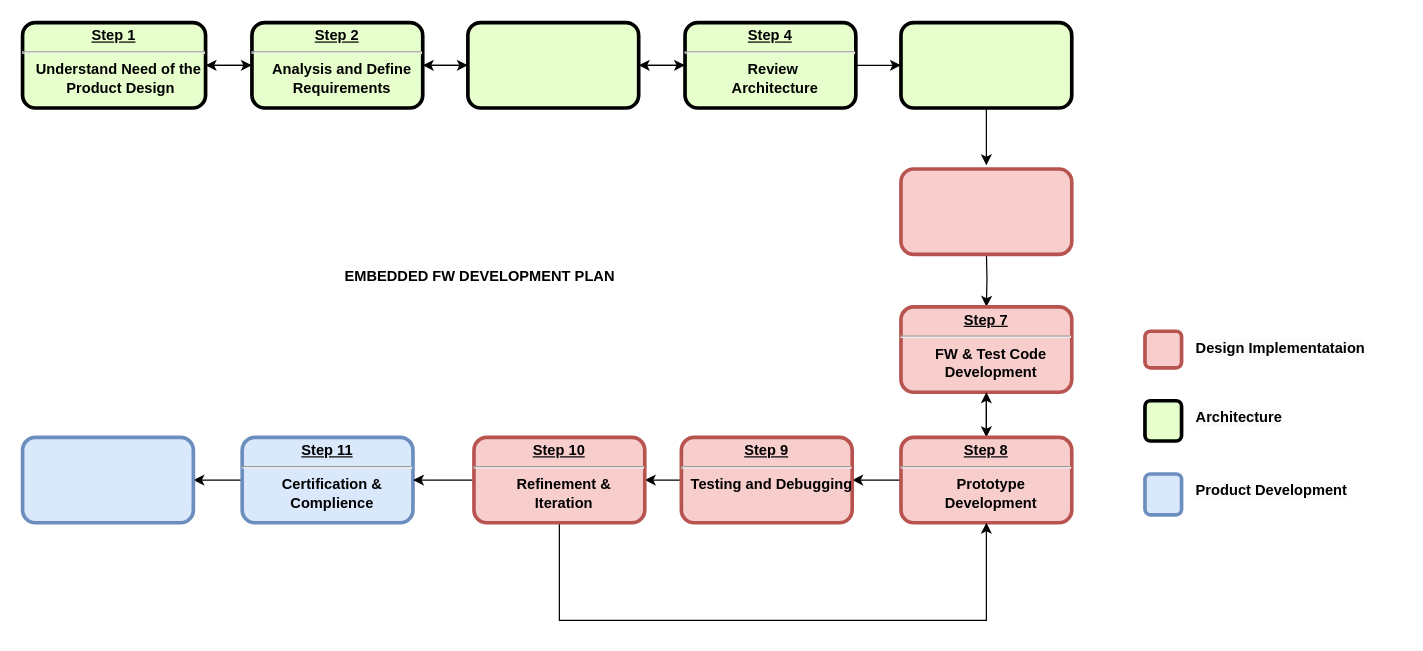
Image size: 1423x651. Some labels were removed from this diagram. Each missing label, with the box of its shape:
Step 12 Production: (20, 435, 195, 524)
Step 3 Develop System Architecture: (465, 20, 640, 109)
Step 5 Final Version Architecture: (899, 20, 1073, 109)
Step 6 Develop Design Document: (899, 167, 1073, 256)
